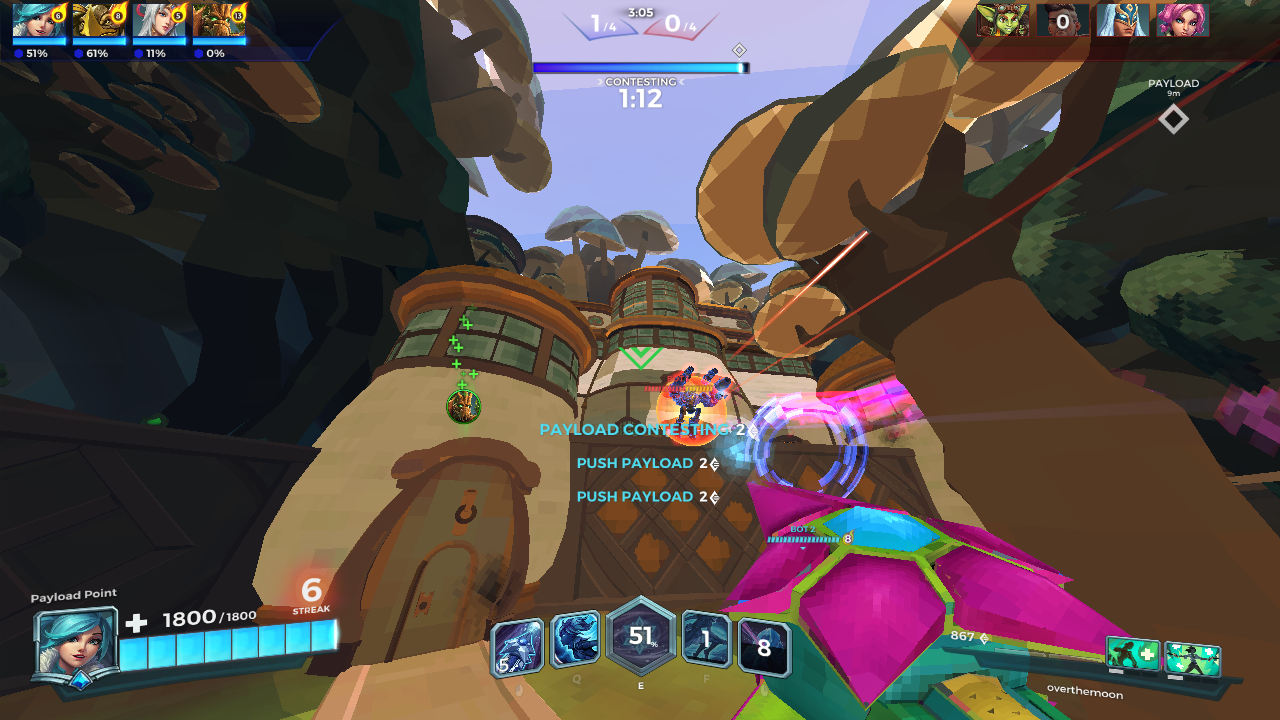model: (657, 378, 714, 442)
